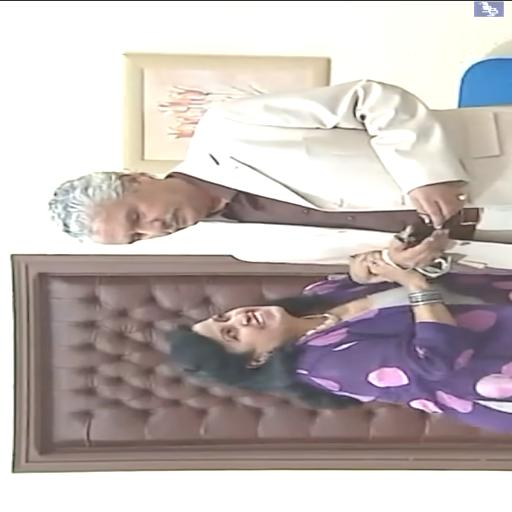jannet: (169, 295, 318, 379)
